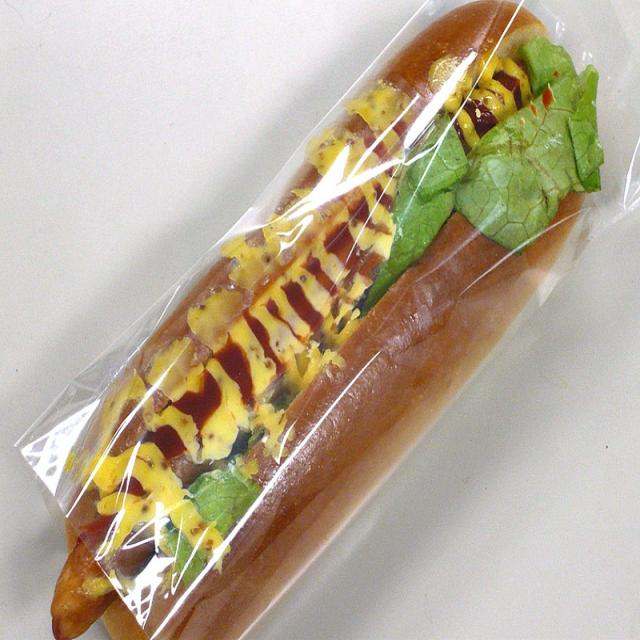汉堡快餐: (38, 0, 620, 640)
